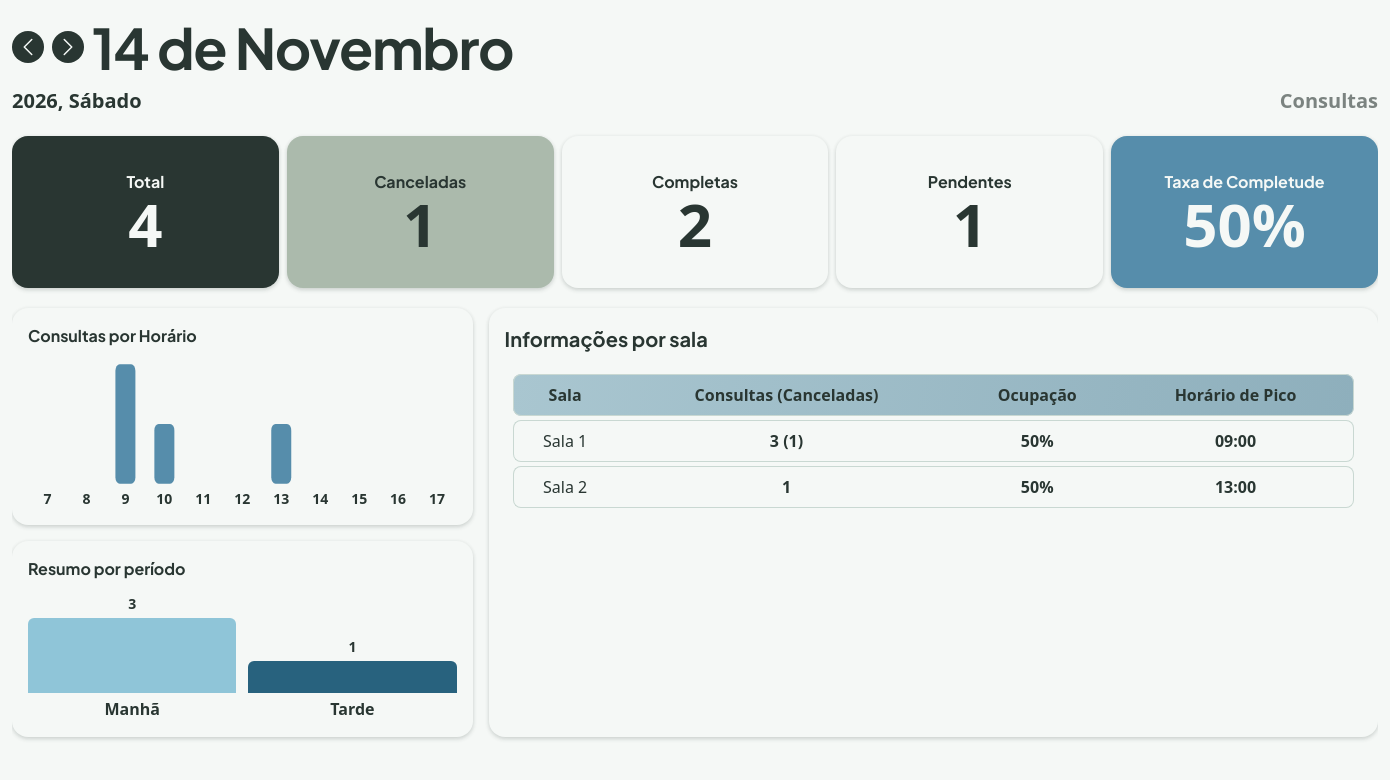
it: permite dias futuros do mês atual e oculta avanço fora da janela mensal
What coordinates should you click on to do the following:
click the button named "Próximo dia"
I would click on:
 (68, 47)
Its box is [52,31,84,63].
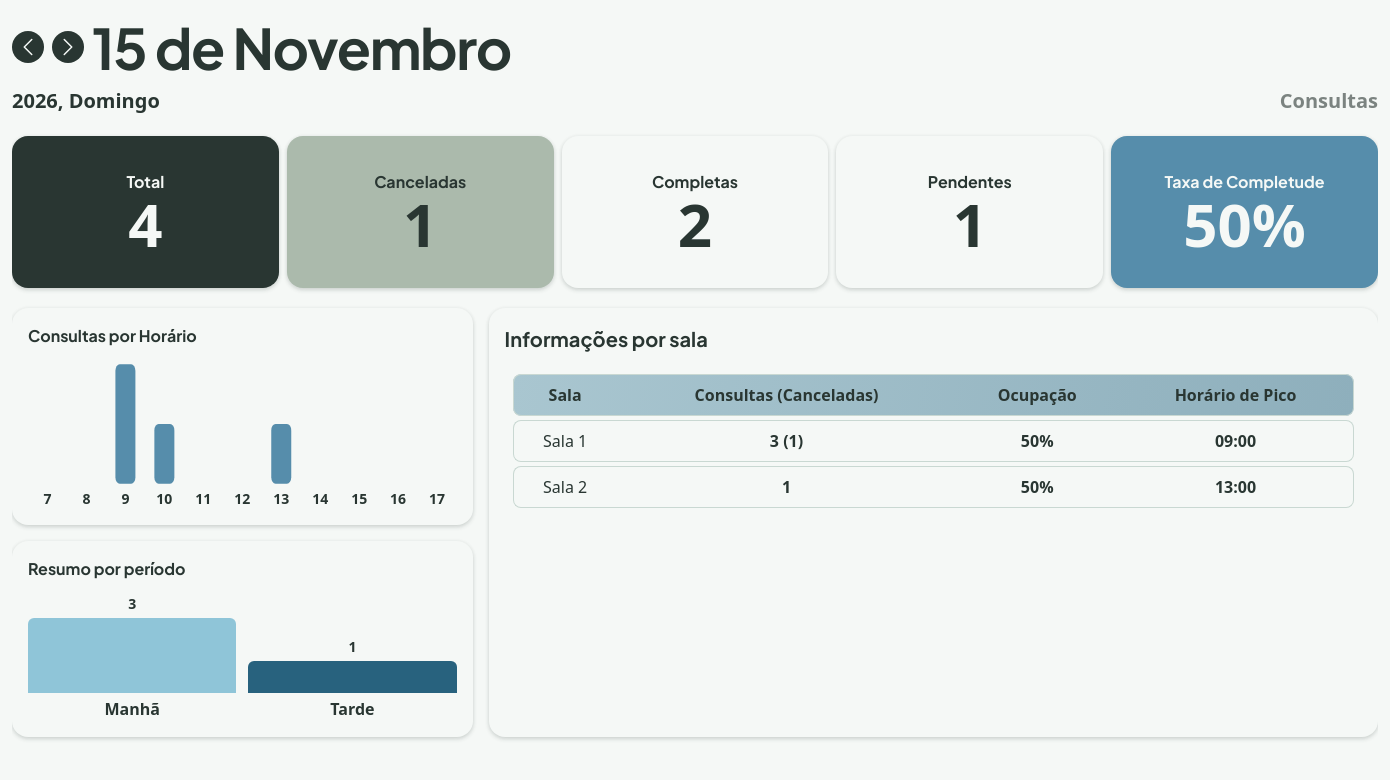
Check: the heading "15 de Novembro" is shown, box [92,12,511,82]
